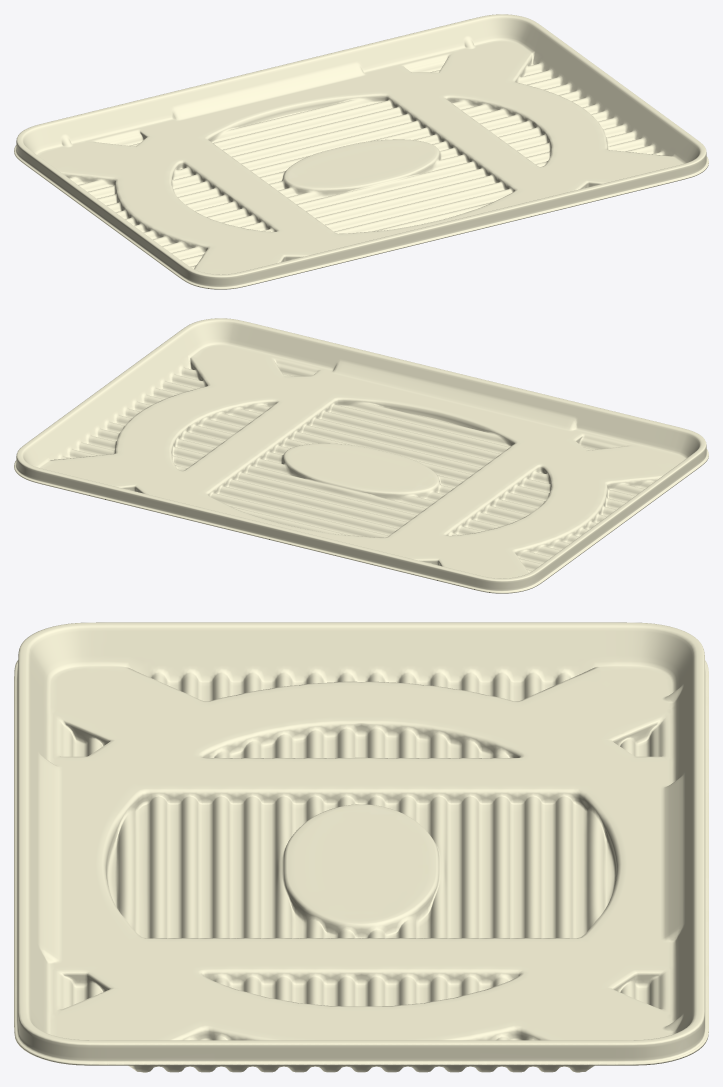
File: surgical-tray-clean-transformed.glb
The picture shows the model from 3 angles, top to bottom: view 1: azimuth 30°, elevation 25°; view 2: azimuth 150°, elevation 25°; view 3: azimuth 270°, elevation 25°; orthographic projection. The views are drawn at different scales.
Parts seen in each view (by area): view 1: NewGen_Surgical_Tray; view 2: NewGen_Surgical_Tray; view 3: NewGen_Surgical_Tray.
Boxes of the visible parts, <box> form: NewGen_Surgical_Tray: <box>14,14,708,289</box>; NewGen_Surgical_Tray: <box>14,318,708,593</box>; NewGen_Surgical_Tray: <box>14,622,708,1072</box>.
Bounding box in the file's own units: 0.5 × 0.026 × 0.345.
1 material, 1 textured.
